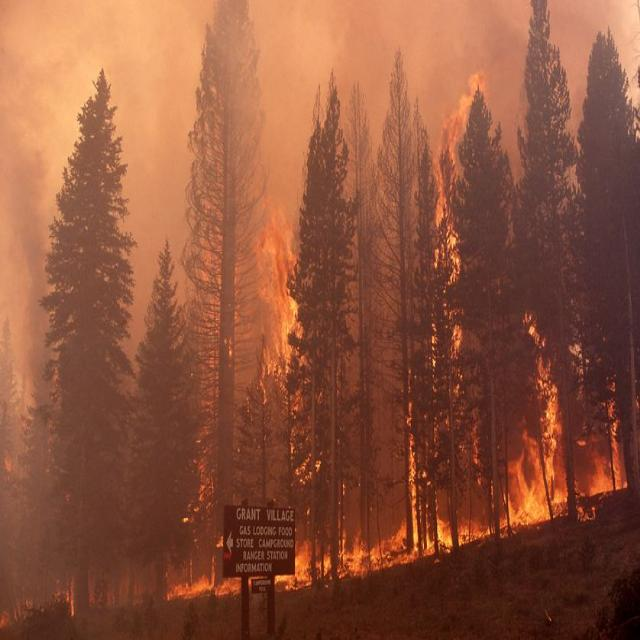Fire: (509, 378, 567, 532), (296, 536, 413, 586)
